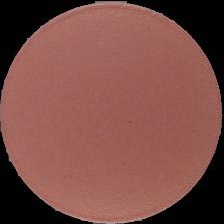54868-5197: (0, 0, 224, 224)
